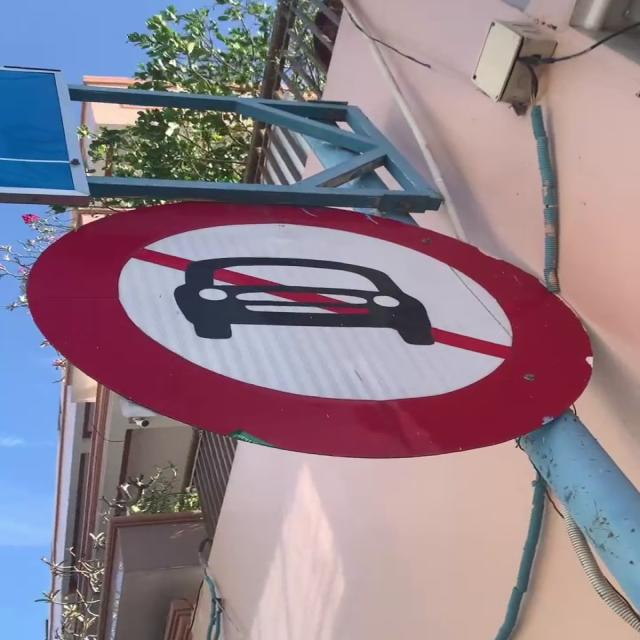Cam_O_To: (26, 196, 596, 458)
